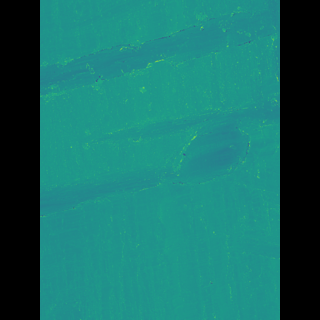Loch: (70, 73, 250, 319), (70, 0, 249, 112)
